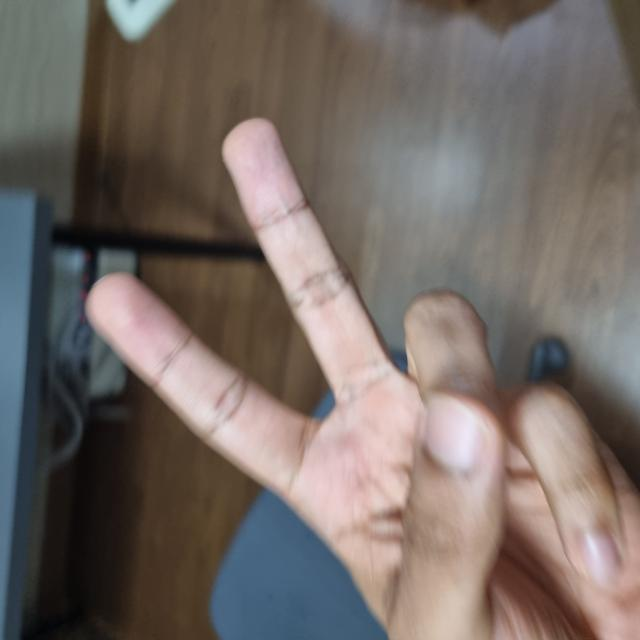Scissors: (0, 98, 509, 639)
